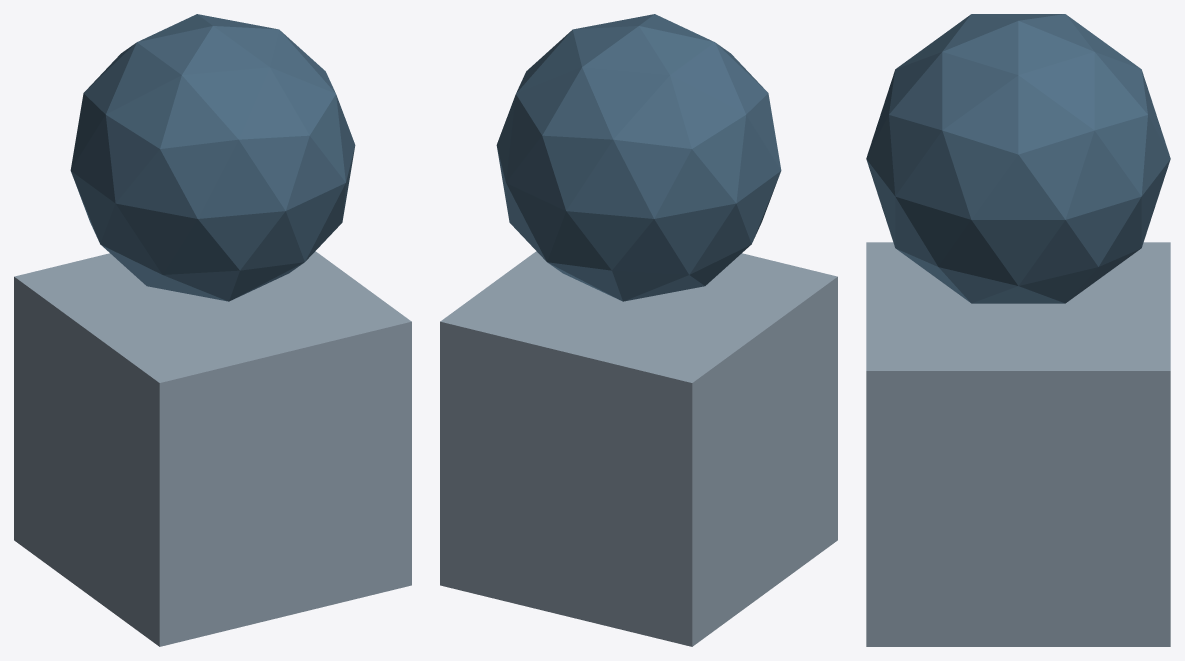
Rendered from isocube.gltf.
3 renders of one model, left to right at view 1: azimuth 30°, elevation 25°; view 2: azimuth 150°, elevation 25°; view 3: azimuth 270°, elevation 25°, orthographic. The views are drawn at different scales.
Parts seen in each view (by area): view 1: Cube, Icosphere; view 2: Cube, Icosphere; view 3: Cube, Icosphere.
Boxes of the visible parts, <box> form: Cube: <box>14,251,411,646</box>; Icosphere: <box>70,14,355,301</box>; Cube: <box>440,251,837,646</box>; Icosphere: <box>496,14,781,301</box>; Cube: <box>866,242,1170,646</box>; Icosphere: <box>866,14,1170,303</box>.
Size of the model in its own units: 2 by 4.07 by 2.
